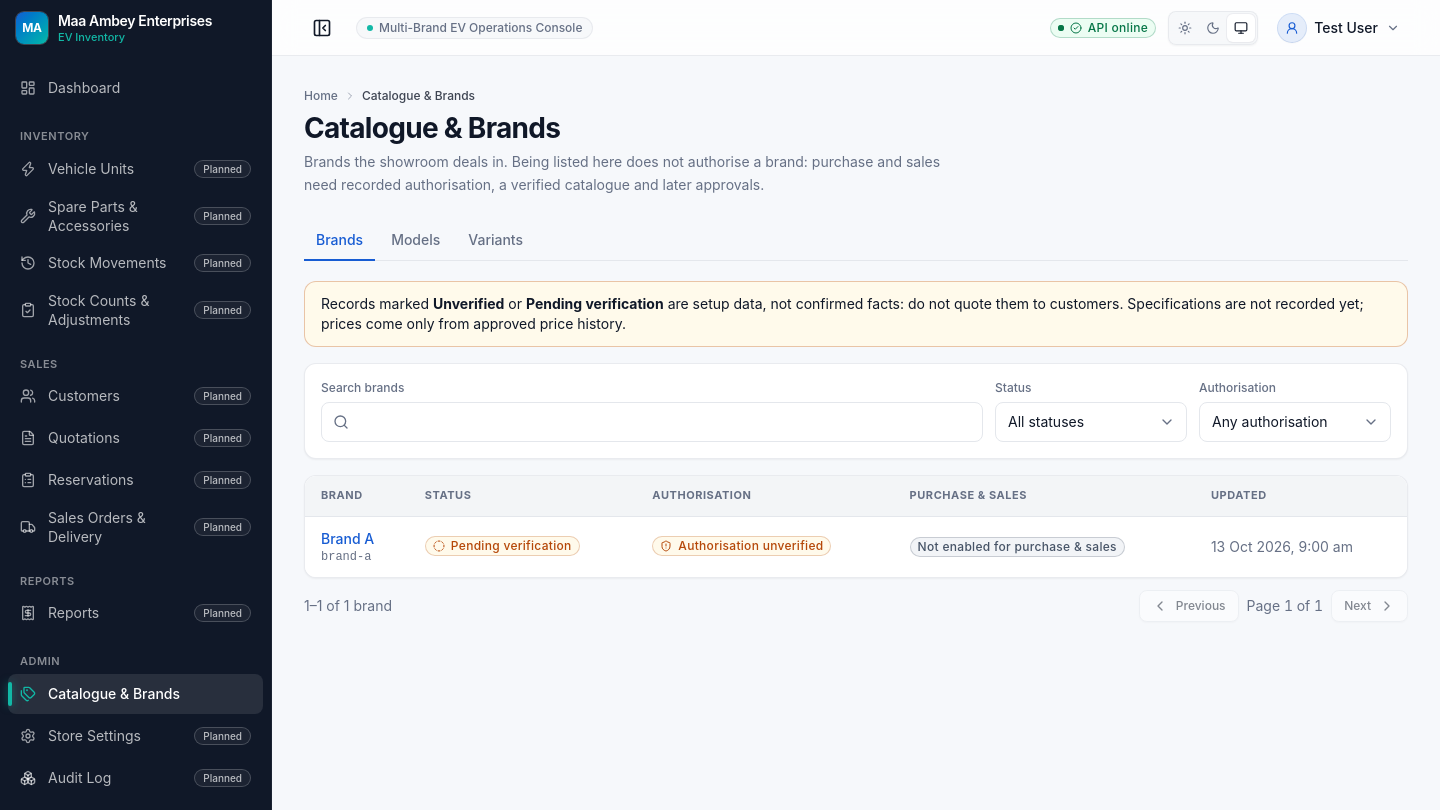
Test case: brand list › sends search and filters to the server and explains no results
Check: the table named "Brands" is shown, box 305,476 -> 1407,576
Type "zz" into the search field labelled "Search brands" at (652, 422), box 321,402 -> 983,442
Then press Enter
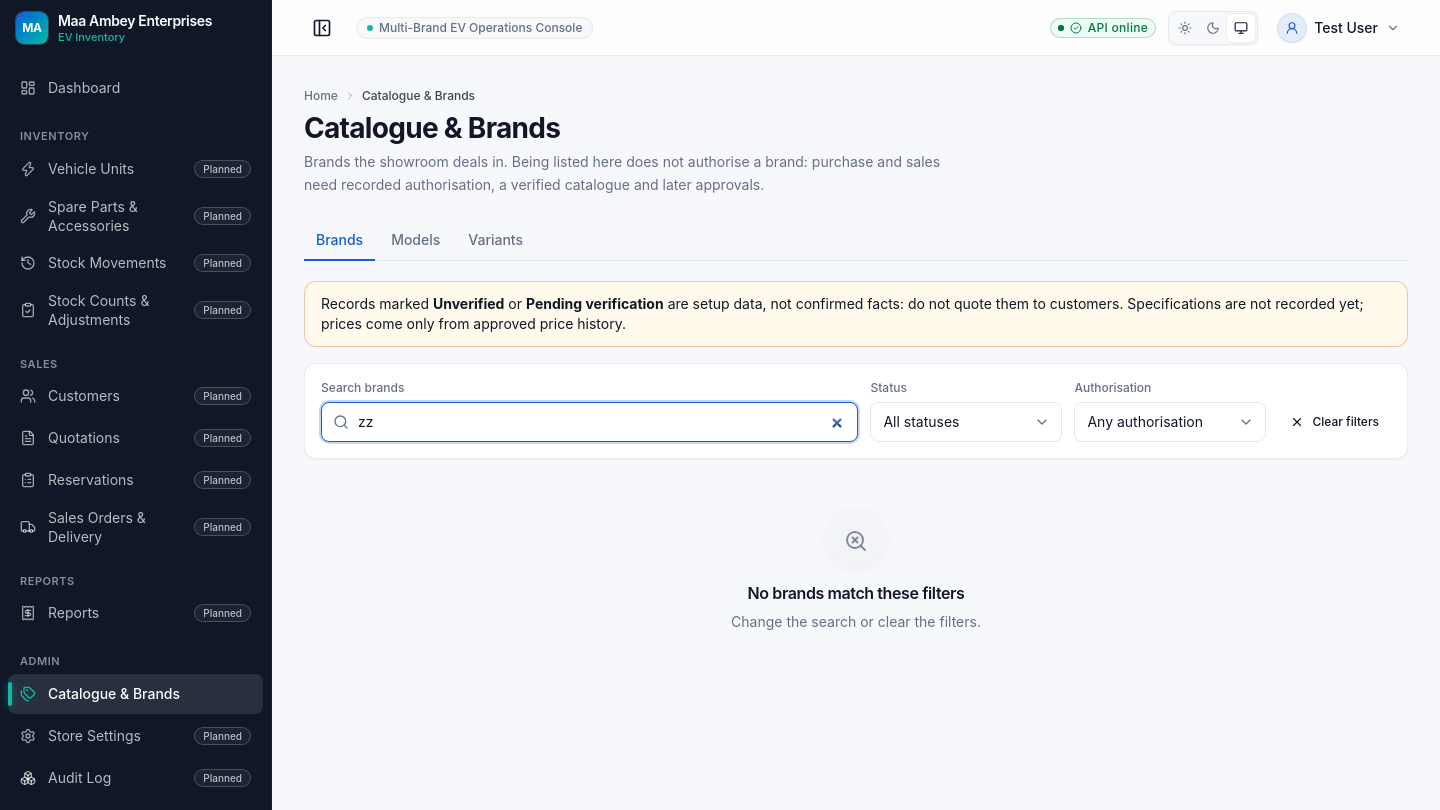
Check: the text "No brands match these filters" is shown, box 748,581 -> 964,605
Click the button "Clear filters" at (1335, 422), box 1278,406 -> 1391,438
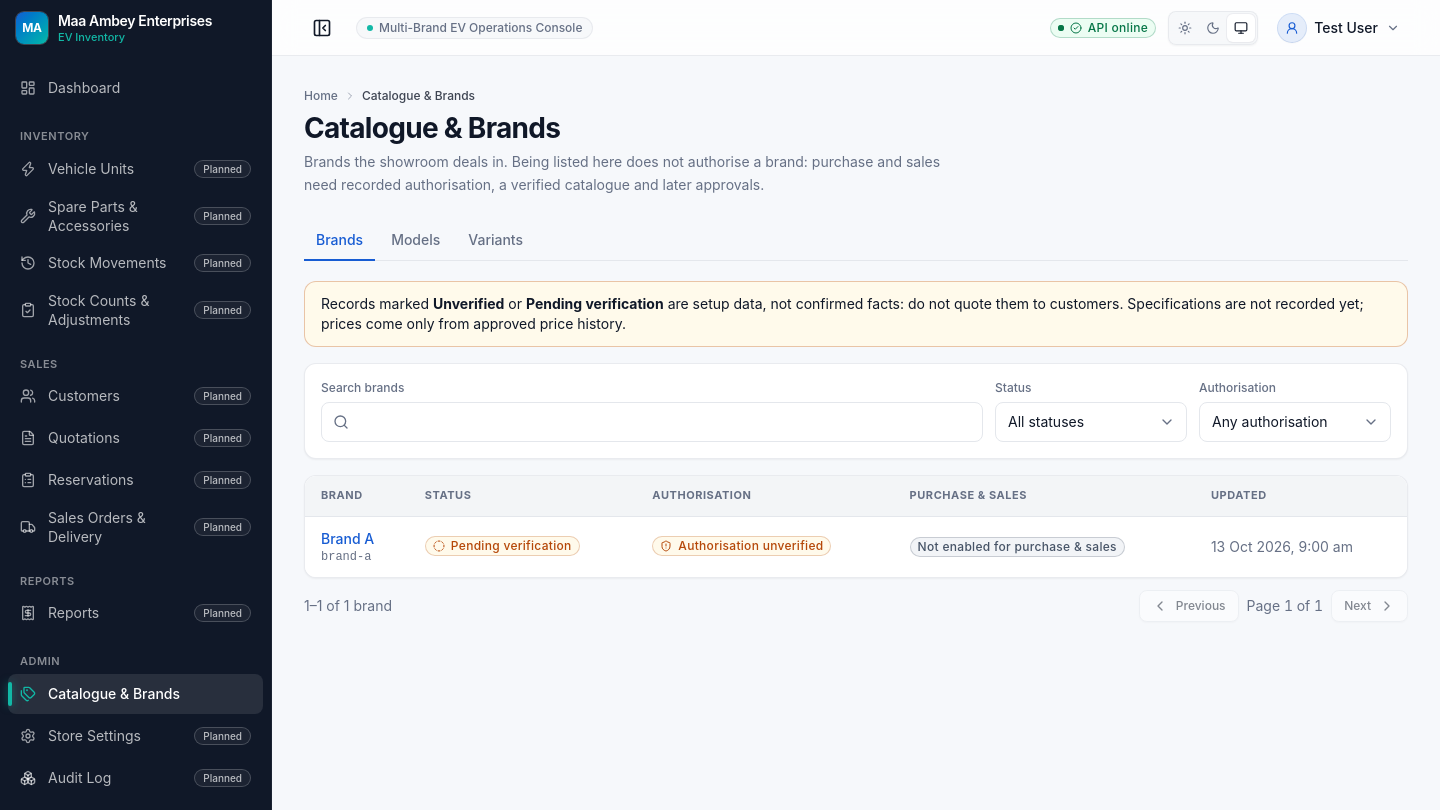
Check: the table named "Brands" is shown, box 305,476 -> 1407,576
